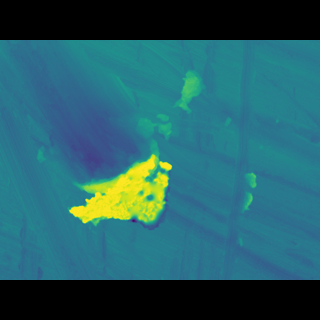Loch: (59, 145, 182, 218), (219, 69, 256, 250)
